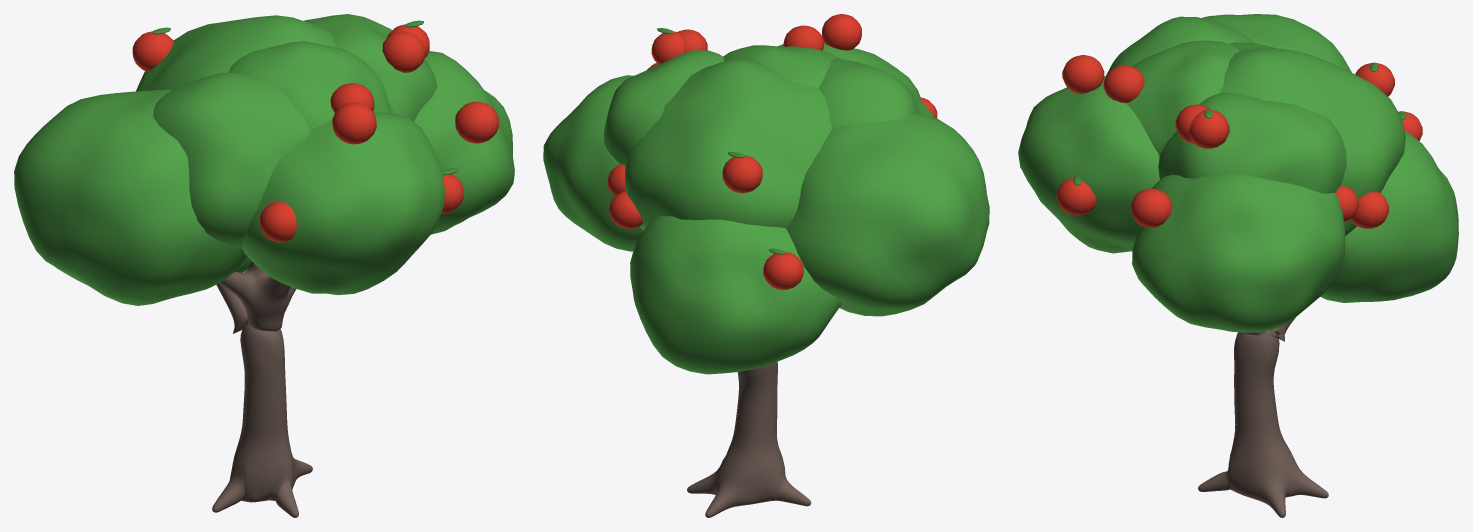
Rendered from apple.glb.
3 renders of one model, left to right at view 1: azimuth 30°, elevation 25°; view 2: azimuth 150°, elevation 25°; view 3: azimuth 270°, elevation 25°, orthographic. The views are drawn at different scales.
Visible parts, largest first — view 1: leaf_3, leaf_4, leaf_5, trunk, leaf_1, fruit, leaf_6, leaf_0, leaf_7; view 2: leaf_3, leaf_0, leaf_2, leaf_1, trunk, fruit, leaf_7, leaf_5, leaf_6, leaf_4; view 3: leaf_1, leaf_4, leaf_2, leaf_0, leaf_7, trunk, fruit, leaf_6, leaf_3, leaf_5.
Part boxes in pixels (x1,y1,x2,y2): leaf_3: (14, 89, 247, 305); leaf_4: (242, 112, 445, 295); leaf_5: (153, 72, 310, 248); trunk: (212, 261, 312, 517); leaf_1: (414, 51, 514, 234); fruit: (132, 24, 498, 242); leaf_6: (228, 41, 391, 129); leaf_0: (136, 15, 394, 113); leaf_7: (304, 14, 437, 121); leaf_3: (786, 112, 989, 316); leaf_0: (625, 59, 832, 230); leaf_2: (630, 215, 841, 374); leaf_1: (543, 75, 643, 251); trunk: (687, 361, 811, 517); fruit: (608, 14, 937, 289); leaf_7: (604, 50, 724, 164); leaf_5: (819, 59, 934, 129); leaf_6: (723, 45, 840, 88); leaf_4: (778, 43, 920, 97); leaf_1: (1132, 173, 1345, 332); leaf_4: (1018, 76, 1159, 253); leaf_2: (1320, 131, 1458, 302); leaf_0: (1158, 42, 1405, 236); leaf_7: (1158, 92, 1346, 193); trunk: (1198, 317, 1328, 517); fruit: (1056, 55, 1422, 228); leaf_6: (1126, 40, 1239, 151); leaf_3: (1201, 14, 1351, 72); leaf_5: (1106, 16, 1252, 75).
Bounding box in the file's own units: 3.79 × 3.68 × 3.31.
